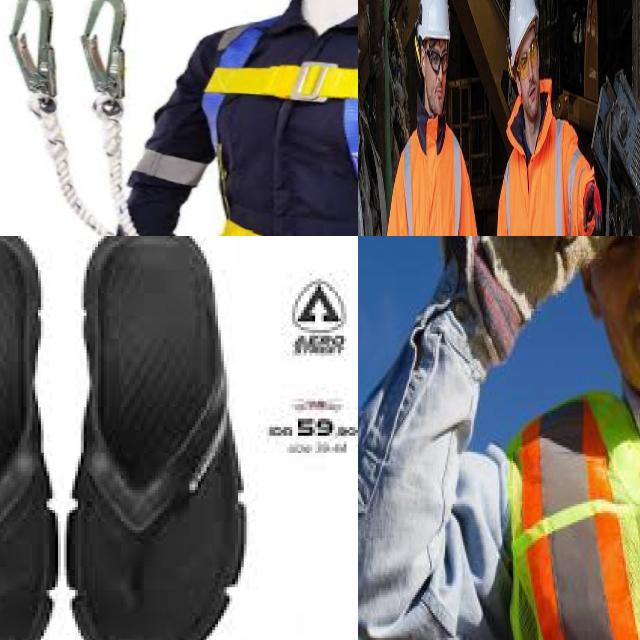Harness: (194, 8, 358, 236)
Sandals: (0, 236, 315, 640)
face_nomask: (583, 236, 640, 370), (512, 23, 541, 125), (422, 39, 449, 120)
glasses: (517, 32, 539, 83), (428, 41, 450, 80)
hand_glove: (449, 236, 601, 331), (582, 157, 601, 236)
head_helmet: (505, 0, 535, 65), (415, 0, 448, 48)
person: (359, 236, 640, 640), (380, 0, 484, 236), (490, 0, 593, 236)
vest: (534, 377, 640, 640), (384, 118, 486, 236), (498, 113, 577, 236)
